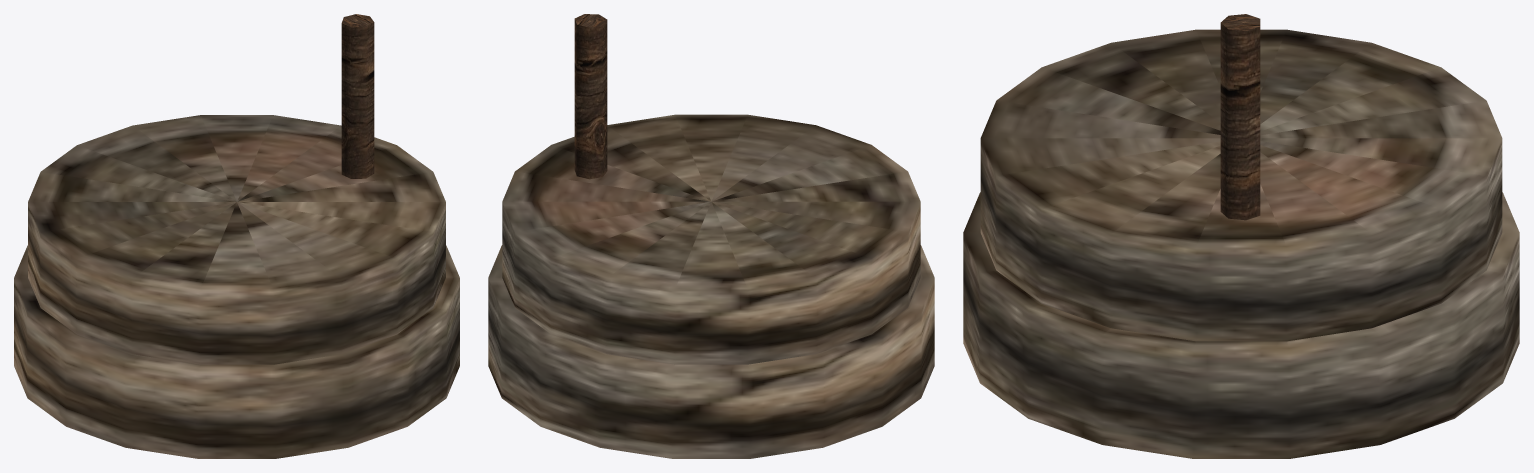
Rendered from quern.glb.
3 views of the same model, side by side, from view 1: azimuth 30°, elevation 25°; view 2: azimuth 150°, elevation 25°; view 3: azimuth 270°, elevation 25° (orthographic). The views are drawn at different scales.
Parts seen in each view (by area): view 1: part_0, part_1; view 2: part_0, part_1; view 3: part_0, part_1.
Boxes of the visible parts, x1=… form: part_0: x1=14, y1=115, x2=459, y2=458; part_1: x1=341, y1=14, x2=374, y2=178; part_0: x1=488, y1=114, x2=934, y2=458; part_1: x1=574, y1=14, x2=607, y2=179; part_0: x1=963, y1=29, x2=1519, y2=458; part_1: x1=1220, y1=14, x2=1260, y2=220.
Size of the model in its own units: 0.3151 by 0.25 by 0.32.
Materials: 2 (2 with a texture image).
